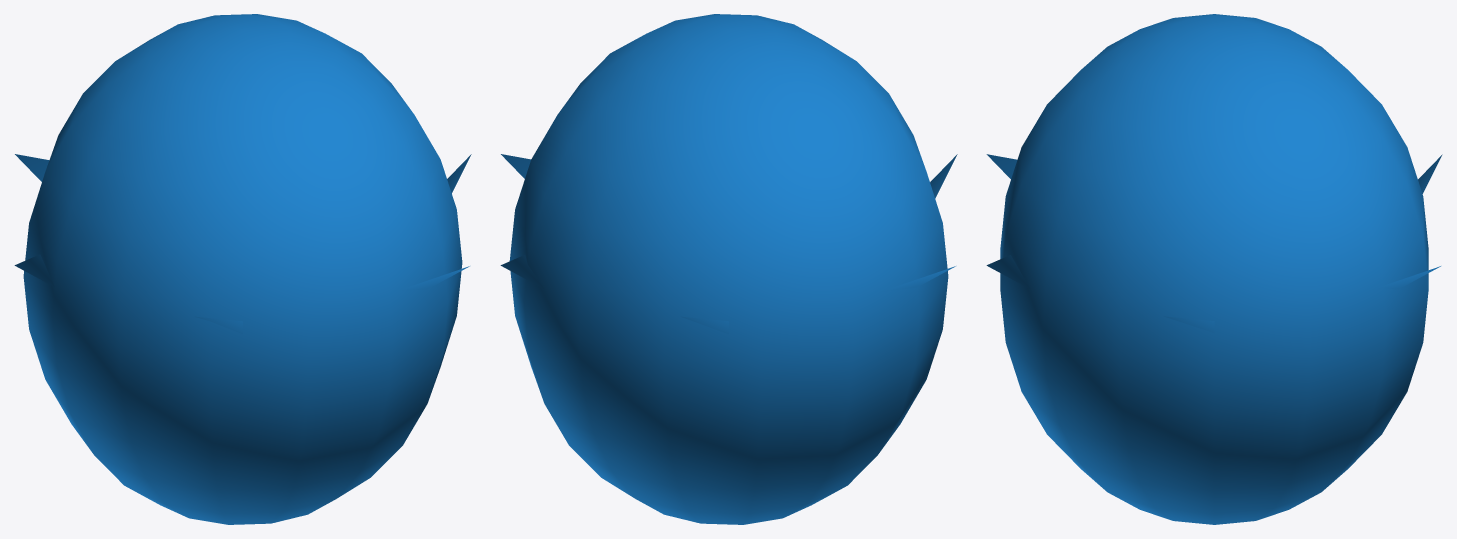
Rendered from Marilisco_stage3.obj.
3 views of the same model, side by side, from view 1: azimuth 30°, elevation 25°; view 2: azimuth 150°, elevation 25°; view 3: azimuth 270°, elevation 25° (orthographic).
Bounding box in the file's own units: 3.12 × 3.12 × 2.7.
